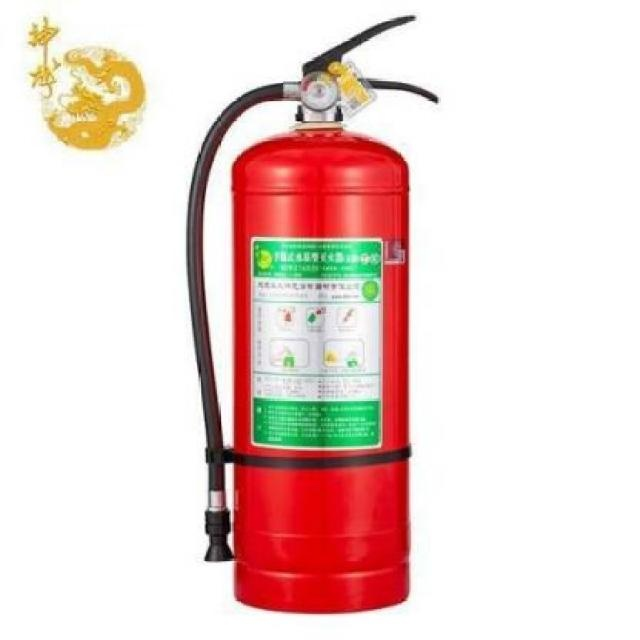fire extinguisher: (186, 14, 440, 614)
